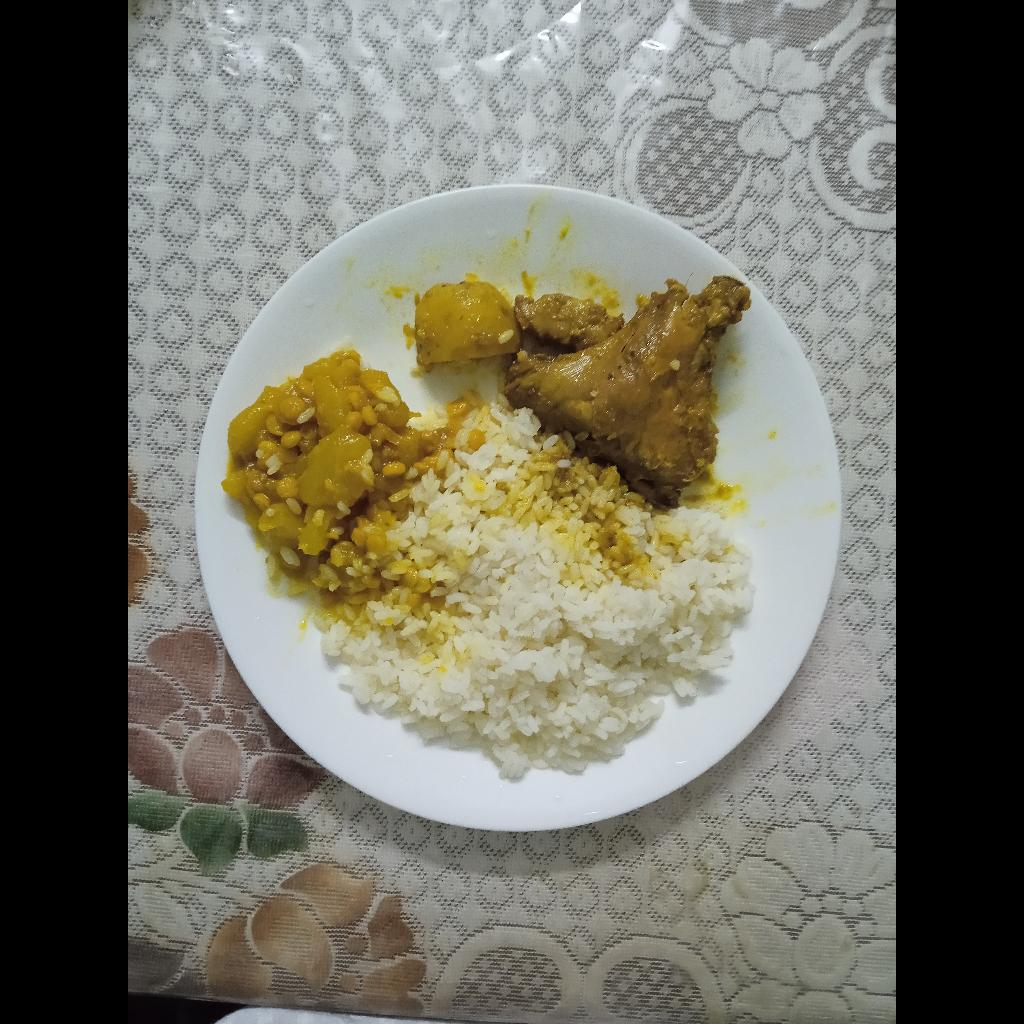chicken: (506, 276, 753, 510)
lau: (222, 348, 444, 568)
potato: (413, 281, 522, 364)
rice: (308, 386, 760, 784)
